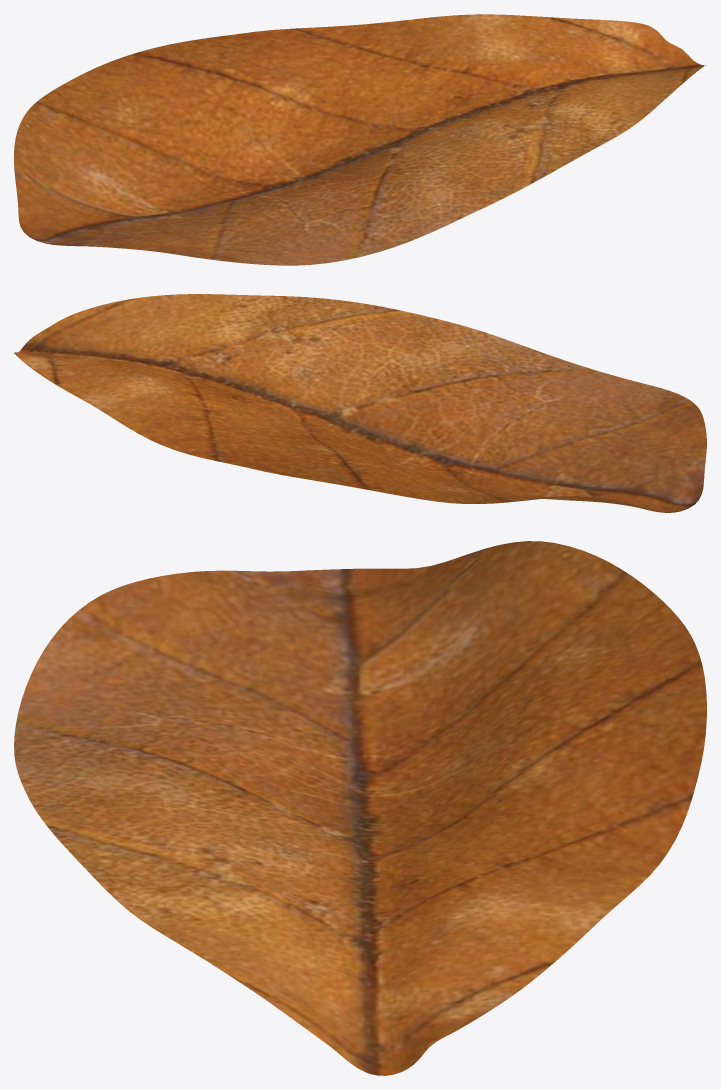
Rendered from leaf_c3.glb.
The picture shows the model from 3 angles, top to bottom: view 1: azimuth 30°, elevation 25°; view 2: azimuth 150°, elevation 25°; view 3: azimuth 270°, elevation 25°; orthographic projection. The views are drawn at different scales.
Parts seen in each view (by area): view 1: Circle.010; view 2: Circle.010; view 3: Circle.010.
Boxes of the visible parts, x1,y1,x2,y2 form: Circle.010: (14, 14, 706, 265); Circle.010: (14, 294, 706, 512); Circle.010: (14, 541, 706, 1075).
Size of the model in its own units: 0.9999 by 0.086 by 0.5781.
1 material, 1 textured.
